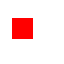square: (12, 18, 32, 38)
